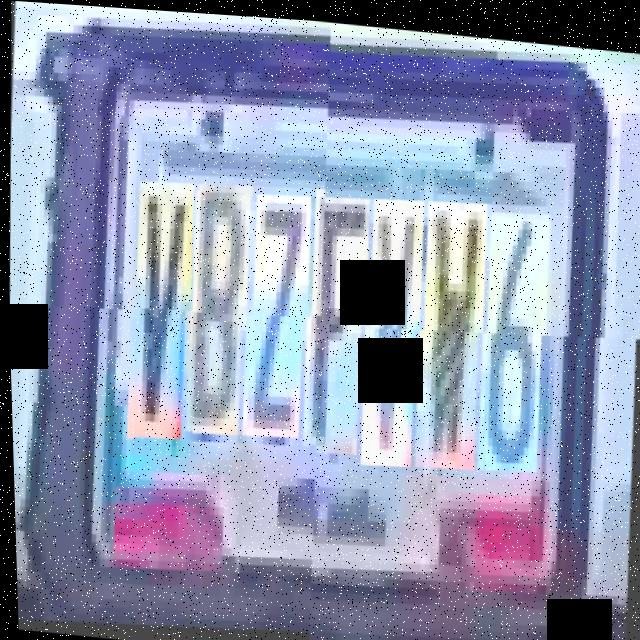6: (476, 207, 556, 475)
B: (184, 187, 259, 447)
F: (301, 193, 376, 460)
V: (125, 185, 200, 452), (359, 195, 430, 470)
W: (413, 197, 493, 473)
Z: (242, 198, 317, 450)
